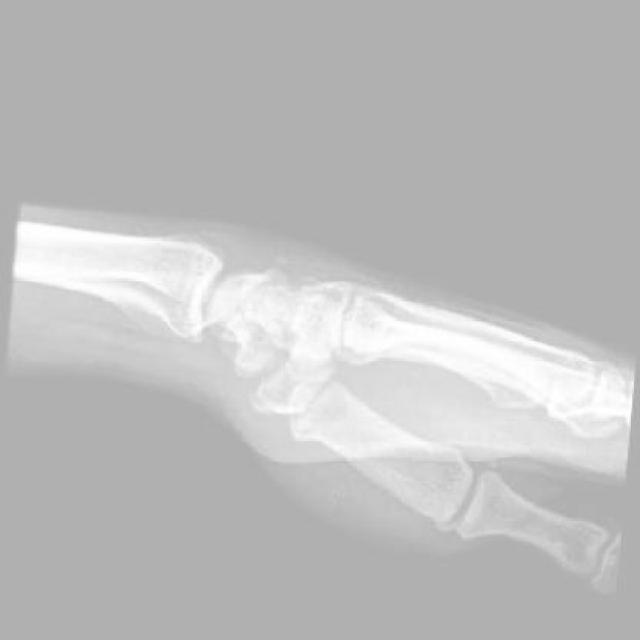bone: (266, 252, 294, 277)
